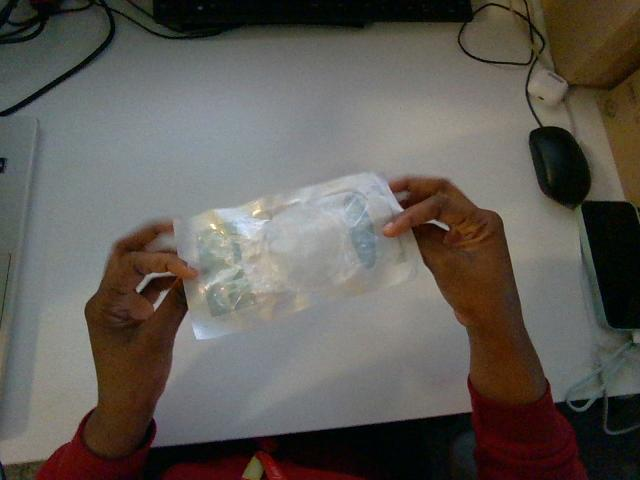gallipot: (175, 173, 422, 338)
